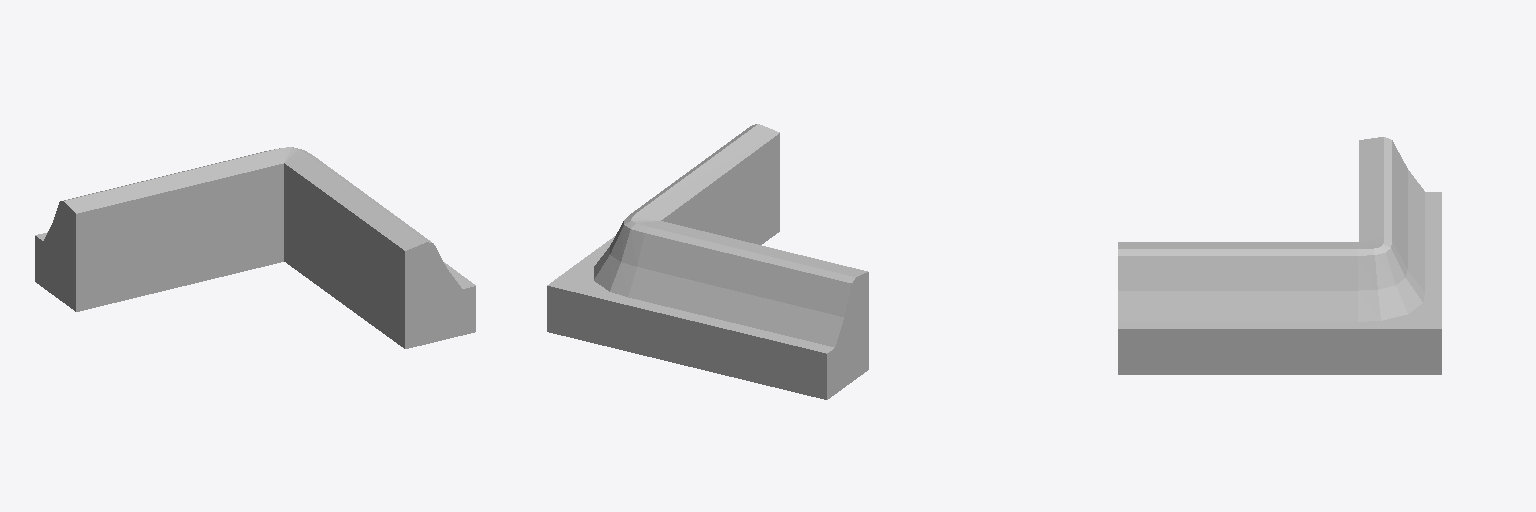
The model's file is OutwardCurvedWall_Lower.obj.
3 views of the same model, side by side, from view 1: azimuth 30°, elevation 25°; view 2: azimuth 150°, elevation 25°; view 3: azimuth 270°, elevation 25° (orthographic).
Visible parts, largest first — view 1: OutwardCurvedWall_Lower export_grp; view 2: OutwardCurvedWall_Lower export_grp; view 3: OutwardCurvedWall_Lower export_grp.
Part boxes in pixels (x1,y1,x2,y2): OutwardCurvedWall_Lower export_grp: (35,147,475,348); OutwardCurvedWall_Lower export_grp: (547,124,868,399); OutwardCurvedWall_Lower export_grp: (1118,137,1441,374).
Bounding box in the file's own units: 8 × 2.78 × 8.